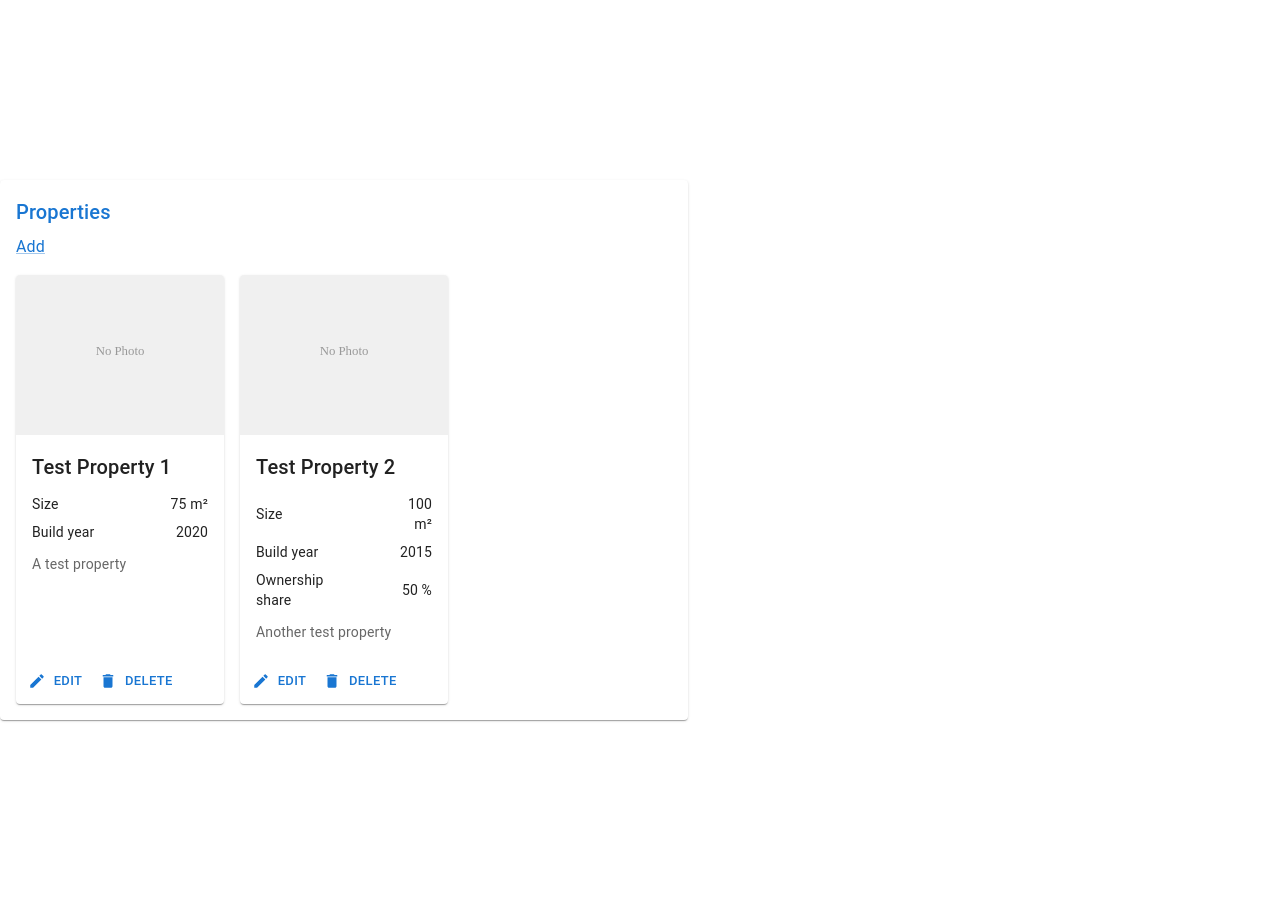
Test case: AssetCardList › closes delete dialog on cancel
The image size is (1280, 900).
Expected: the text "Test Property 1" is shown, [32,455,171,479]
Click the 1st button "Delete" at (137, 681), box [96,666,178,696]
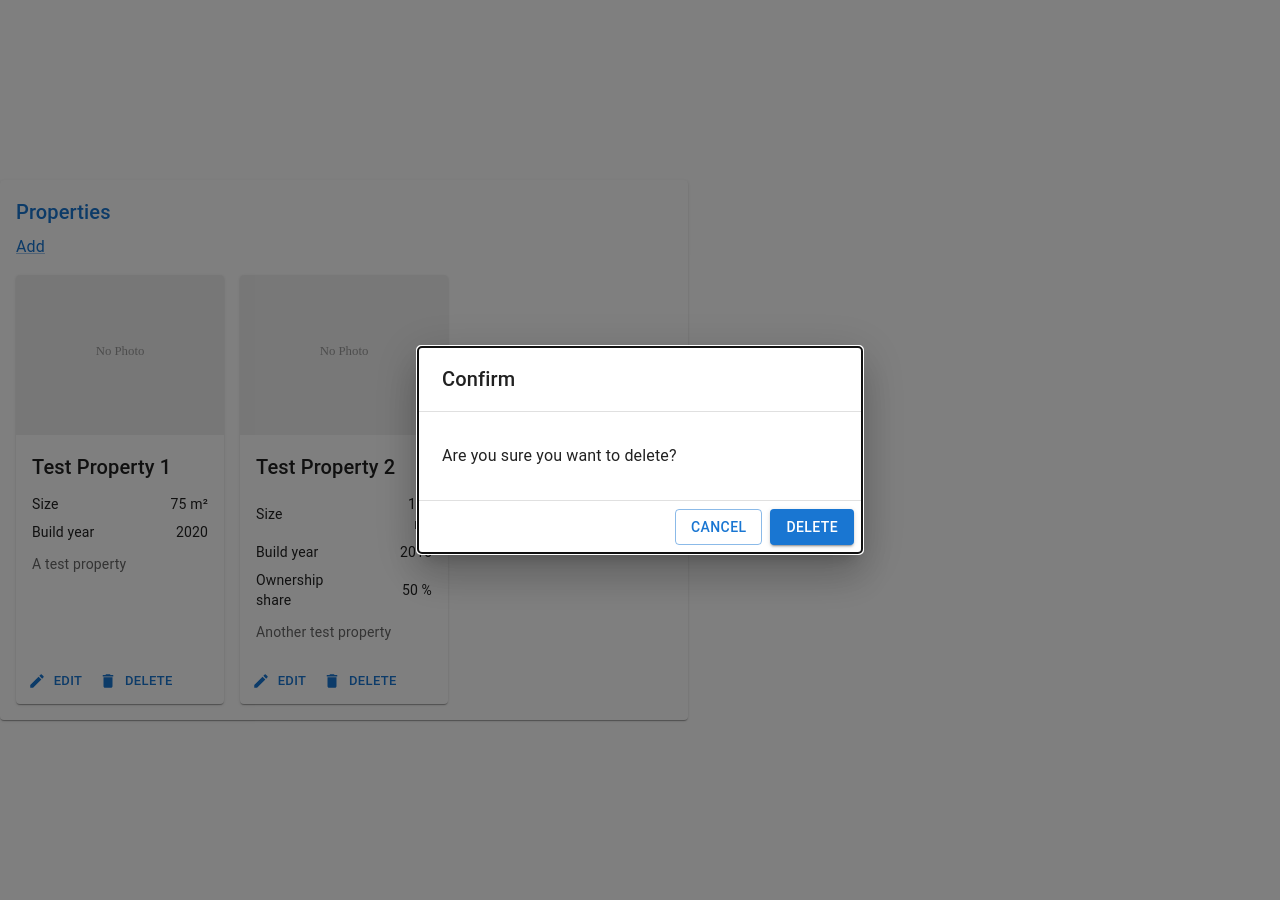
Click the button "Cancel" at (719, 527), box [675,509,762,545]
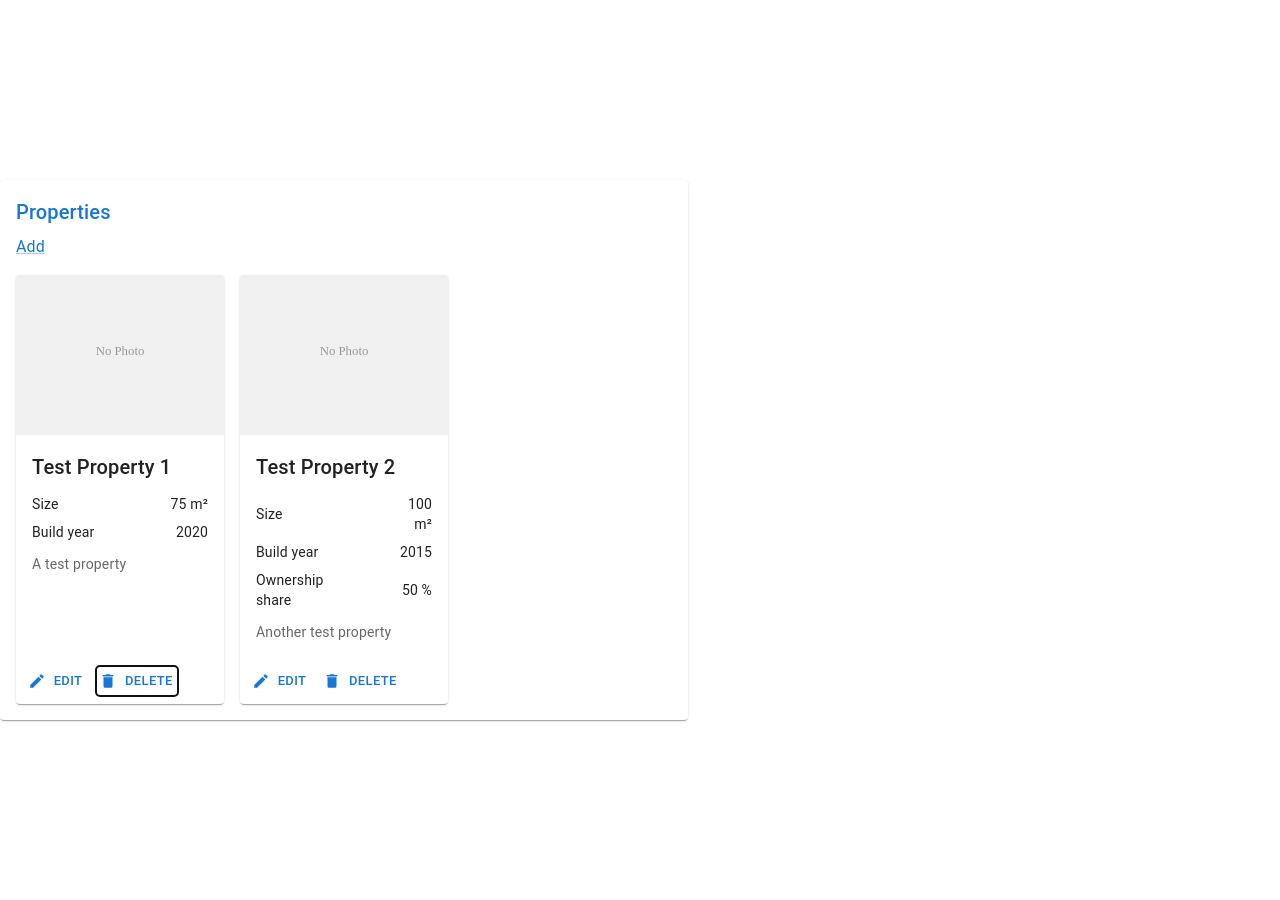
Expected: the text "Are you sure you want to delete?" is gone
